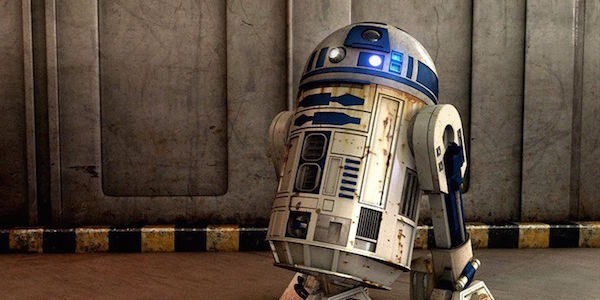r2d2: (265, 22, 495, 300)
